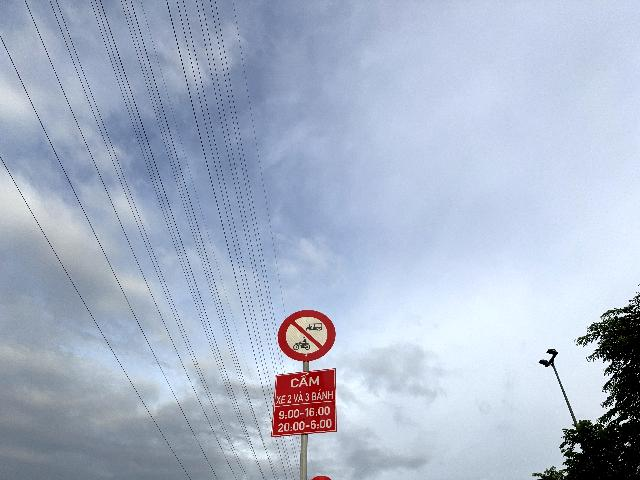cam-xe-2-banh-3-banh: (277, 309, 335, 362)
